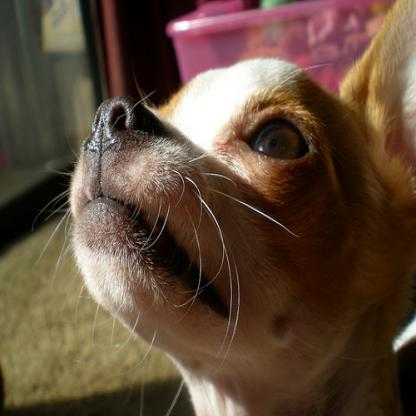dog: (66, 0, 415, 415)
